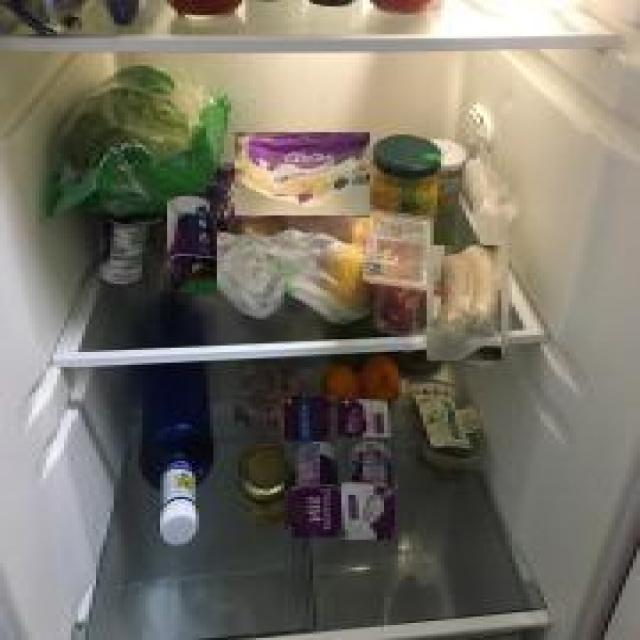grated_cheese: (234, 132, 370, 215)
lemon: (316, 246, 366, 310)
salad: (39, 58, 231, 216)
sausage: (427, 246, 501, 362)
yogurt: (286, 440, 343, 538), (100, 201, 164, 288), (341, 437, 395, 540), (167, 194, 217, 292), (284, 394, 338, 442), (340, 396, 390, 445)
